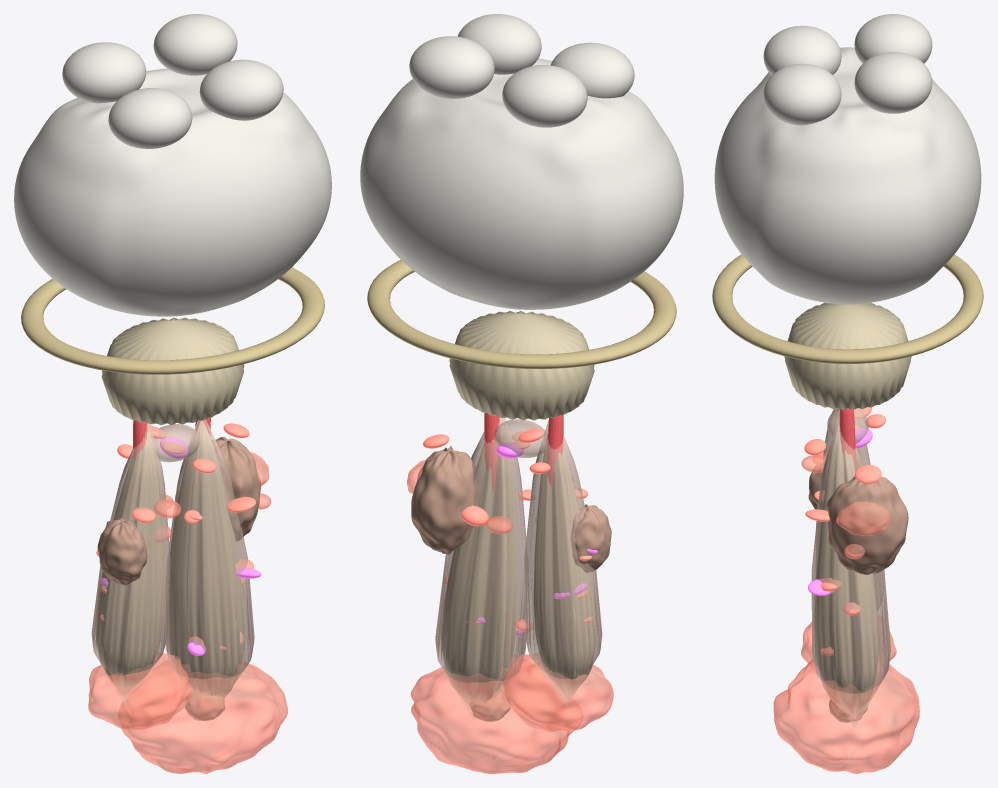
Rendered from resorption.glb.
3 renders of one model, left to right at view 1: azimuth 30°, elevation 25°; view 2: azimuth 150°, elevation 25°; view 3: azimuth 270°, elevation 25°, orthographic. The views are drawn at different scales.
Parts seen in each view (by area): view 1: Crown, PDL_Mesial, Granulation_Apex, Root_Mesial, PDL_Distal, Root_Trunk, Root_Distal, CEJ_Band, Granulation_Distal, Cusp_4, Cusp_3, Cusp_1 (+5 smaller); view 2: Crown, PDL_Mesial, PDL_Distal, Granulation_Apex, Root_Mesial, Root_Trunk, Root_Distal, CEJ_Band, Granulation_Distal, Resorption_Patch_Mesial, Cusp_1, Cusp_2 (+7 smaller); view 3: Crown, PDL_Mesial, Granulation_Apex, Root_Trunk, Root_Mesial, CEJ_Band, Resorption_Patch_Mesial, Cusp_1, Cusp_3, Cusp_2, Cusp_4, Granulation_Lateral (+4 smaller).
Part boxes in pixels (x1,y1,x2,y2): Crown: (14,68,331,316); PDL_Mesial: (165,419,254,698); Granulation_Apex: (118,660,287,773); Root_Mesial: (168,420,245,698); PDL_Distal: (91,423,170,702); Root_Trunk: (101,317,244,425); Root_Distal: (95,424,163,695); CEJ_Band: (21,267,324,374); Granulation_Distal: (88,653,192,729); Cusp_4: (108,88,192,148); Cusp_3: (199,59,283,120); Cusp_1: (153,14,237,75); Crown: (360,58,683,309); PDL_Mesial: (435,417,527,720); PDL_Distal: (524,419,602,706); Granulation_Apex: (410,654,582,773); Root_Mesial: (441,418,517,707); Root_Trunk: (449,311,594,420); Root_Distal: (533,433,596,698); CEJ_Band: (367,260,676,368); Granulation_Distal: (501,653,613,732); Resorption_Patch_Mesial: (411,446,479,554); Cusp_1: (409,36,494,98); Cusp_2: (502,65,587,127); Crown: (714,47,981,304); PDL_Mesial: (811,415,890,727); Granulation_Apex: (773,660,919,773); Root_Trunk: (784,302,911,410); Root_Mesial: (814,422,878,718); CEJ_Band: (712,254,983,363); Resorption_Patch_Mesial: (827,476,908,574); Cusp_1: (854,52,932,113); Cusp_3: (763,63,841,125); Cusp_2: (854,14,932,63); Cusp_4: (763,25,841,75); Granulation_Lateral: (836,501,890,535).
Size of the model in its own units: 0.9931 by 2.42 by 0.836.
